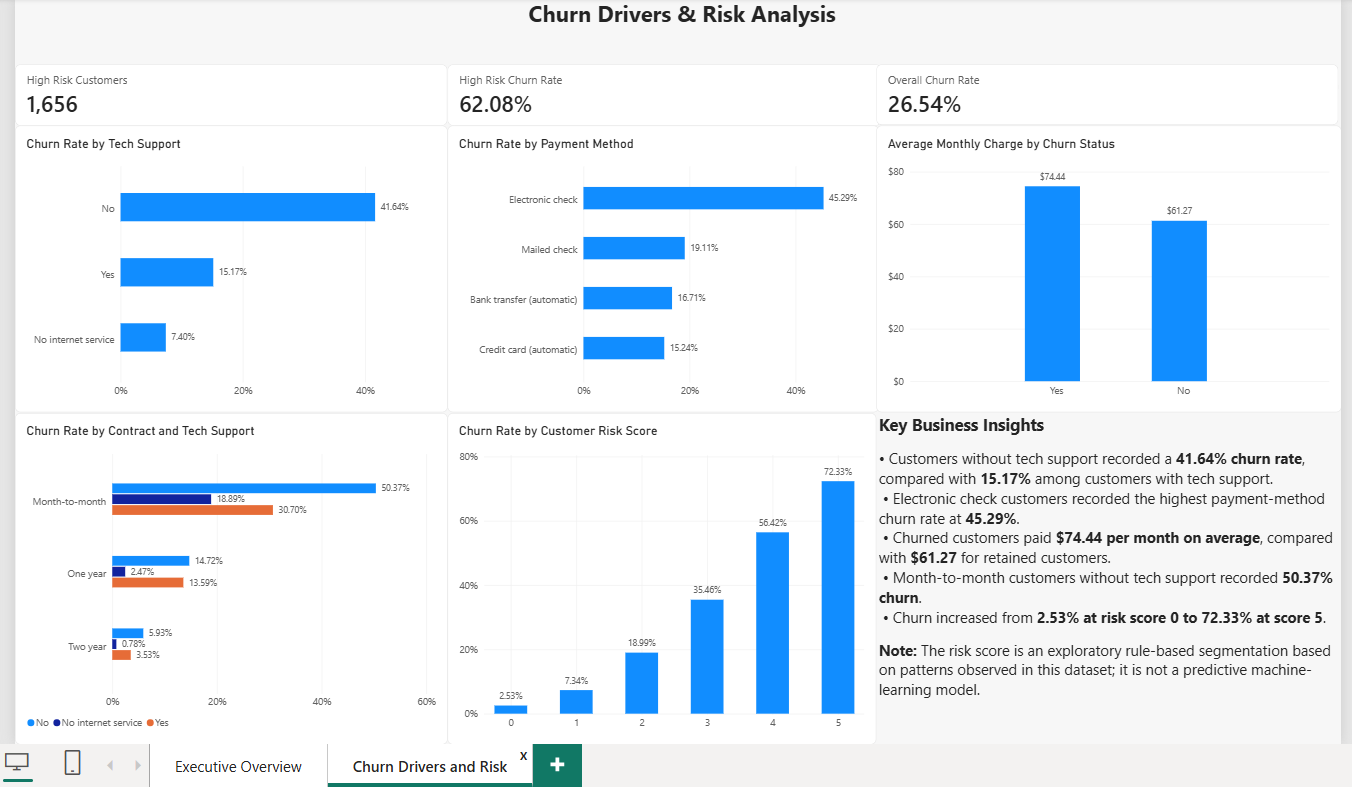

This screenshot's page, from the dashboard's own definition file:
{"tool":"powerbi","page":{"name":"Churn Drivers and Risk","canvas":[1920,1080],"ordinal":1},"visuals":[{"type":"textbox","box":[10.2,0,1910.2,89.5],"z":0},{"type":"clusteredBarChart","title":"Churn Rate by Tech Support","fields":{"Category":["Customer Churn.TechSupport"],"Y":["Customer Churn.Churn Rate"]},"box":[0,185.1,626.6,415],"z":1},{"type":"clusteredBarChart","title":"Churn Rate by Payment Method","fields":{"Category":["Customer Churn.PaymentMethod"],"Y":["Customer Churn.Churn Rate"]},"box":[626.6,185.1,624.5,415],"z":2},{"type":"clusteredColumnChart","title":"Average Monthly Charge by Churn Status","fields":{"Category":["Customer Churn.Churn"],"Y":["Customer Churn.Average Monthly Charge"]},"box":[1247,185.1,673.4,415],"z":3},{"type":"clusteredBarChart","title":"Churn Rate by Contract and Tech Support","fields":{"Category":["Customer Churn.Contract"],"Series":["Customer Churn.TechSupport"],"Y":["Customer Churn.Churn Rate"]},"box":[0,600.1,626.6,480.1],"z":4},{"type":"clusteredColumnChart","title":"Churn Rate by Customer Risk Score","fields":{"Category":["Customer Churn.Risk Score"],"Y":["Customer Churn.Churn Rate"]},"box":[626.6,600.1,620.5,480.1],"z":5},{"type":"cardVisual","fields":{"Data":["Customer Churn.High Risk Customers Display"]},"box":[0,95.6,626.6,89.5],"z":6},{"type":"cardVisual","fields":{"Data":["Customer Churn.High Risk Churn Rate"]},"box":[626.6,95.6,628.6,89.5],"z":7},{"type":"cardVisual","fields":{"Data":["Customer Churn.Churn Rate"]},"box":[1246.9,95.9,669.6,88.7],"z":8},{"type":"textbox","box":[1251.1,600.1,665.2,480.1],"z":9}]}

Visuals, with their boxes on the page's 1920x1080 design canvas (x1, y1, x2, y2). These are canvas units, not pixel positions in the 1352x787 screenshot, which may show the page scaled, cropped or inside an application window:
textbox: x1=10 y1=0 x2=1920 y2=90
"Churn Rate by Tech Support" clusteredBarChart: x1=0 y1=185 x2=627 y2=600
"Churn Rate by Payment Method" clusteredBarChart: x1=627 y1=185 x2=1251 y2=600
"Average Monthly Charge by Churn Status" clusteredColumnChart: x1=1247 y1=185 x2=1920 y2=600
"Churn Rate by Contract and Tech Support" clusteredBarChart: x1=0 y1=600 x2=627 y2=1080
"Churn Rate by Customer Risk Score" clusteredColumnChart: x1=627 y1=600 x2=1247 y2=1080
cardVisual - Customer Churn.High Risk Customers Display: x1=0 y1=96 x2=627 y2=185
cardVisual - Customer Churn.High Risk Churn Rate: x1=627 y1=96 x2=1255 y2=185
cardVisual - Customer Churn.Churn Rate: x1=1247 y1=96 x2=1916 y2=185
textbox: x1=1251 y1=600 x2=1916 y2=1080
